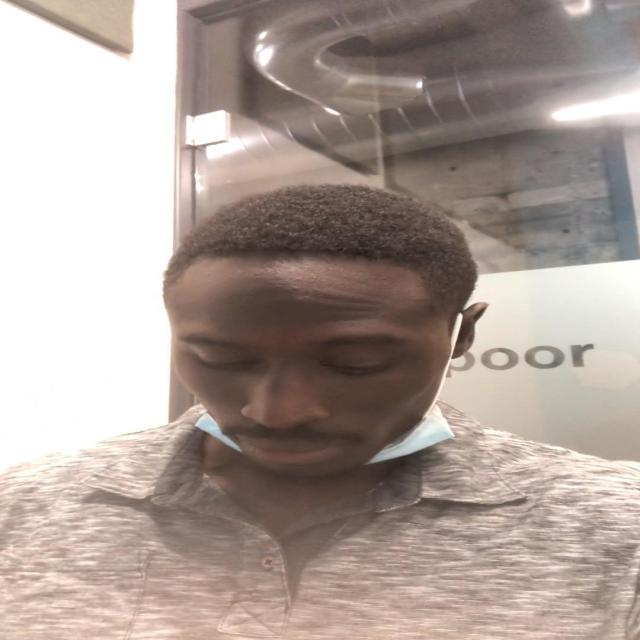face: (165, 258, 474, 476)
